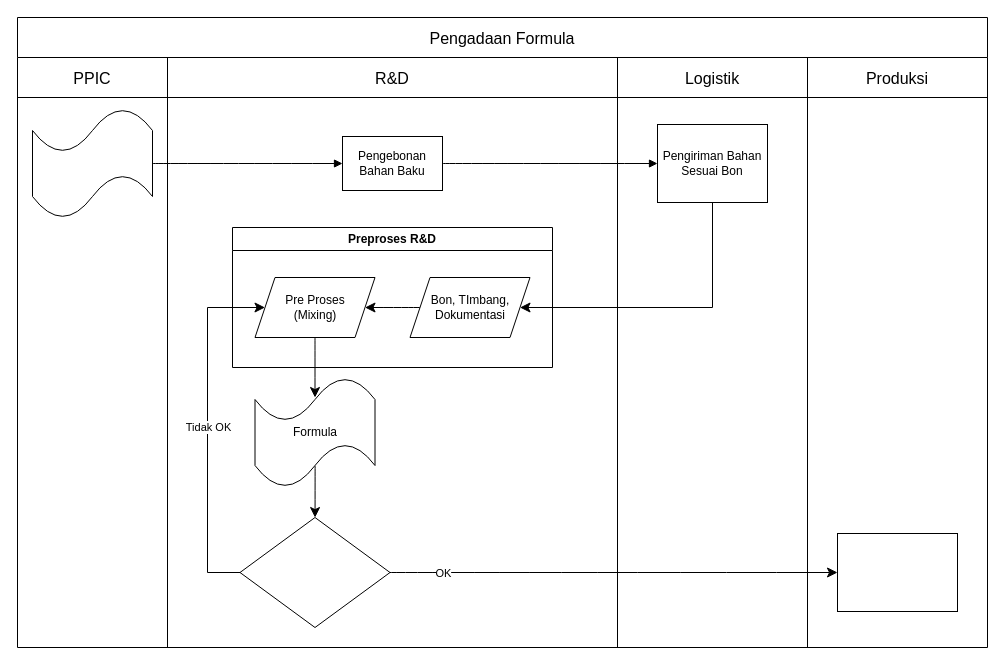
This 1005x665 diagram has some shape labels left out. Here are the shapes that lost their labels. From the top down, the centre of each, then its label:
(92,163): Planning Produksi
(314,572): Analisa Fisik, Kimia, Organoleptik
(897,572): Pengiriman Formula ke Produksi
